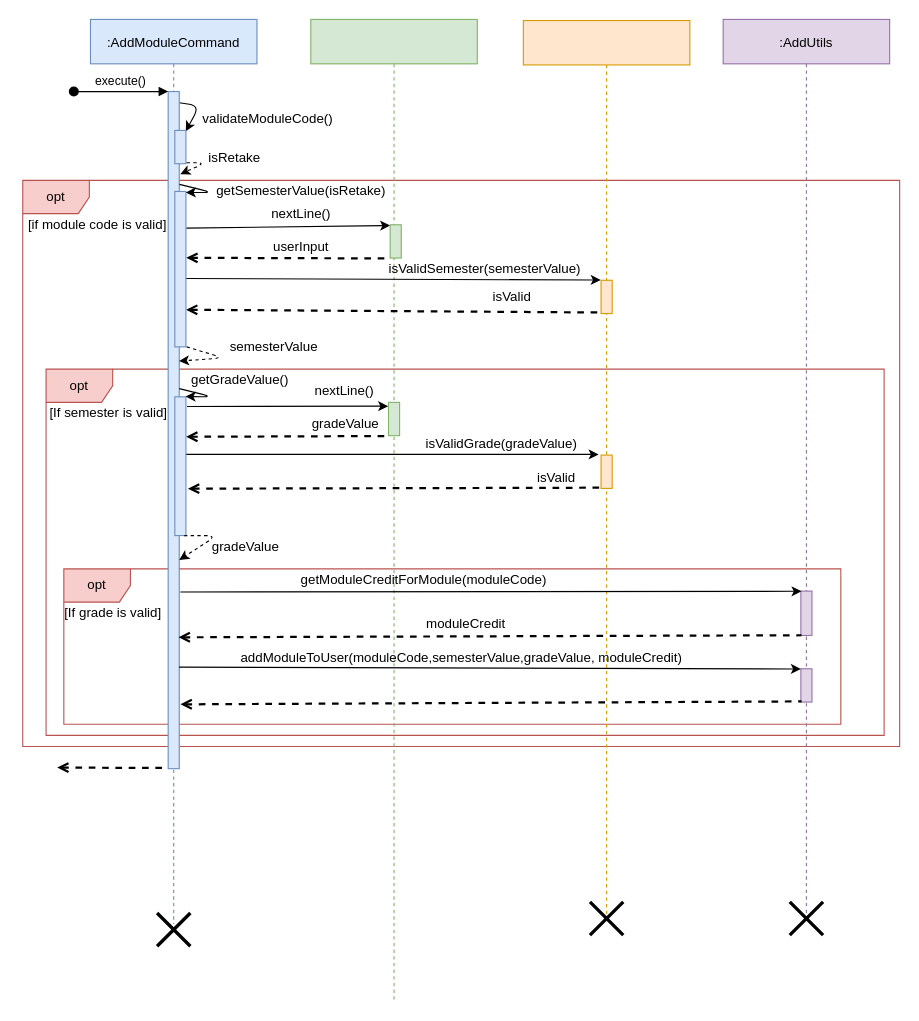
Image size: 919x1021. Some labels were removed from this diagram. Each missing label, with the box of its shape:
:ModuleValidator: (522, 19, 690, 924)
:Ui: (310, 18, 477, 1002)
